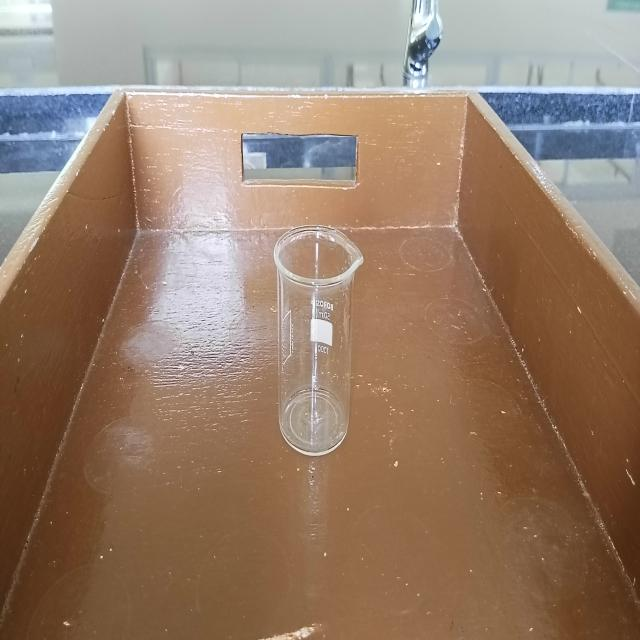beaker: (272, 220, 366, 462)
